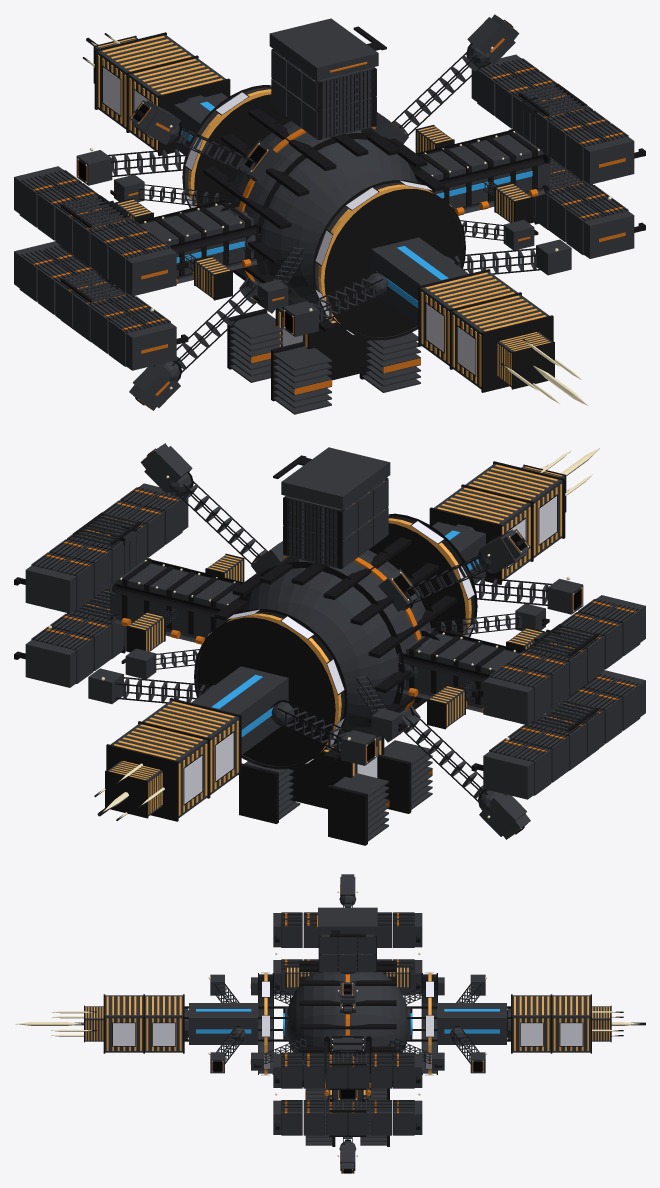
The model's file is trivar_hub.obj.
3 views of the same model, one above another, from view 1: azimuth 30°, elevation 25°; view 2: azimuth 150°, elevation 25°; view 3: azimuth 270°, elevation 25° (orthographic). The views are drawn at different scales.
Visible parts, largest first — view 1: hull, hull2, window, accent, ad, cyan, light, dark; view 2: hull, hull2, window, ad, accent, light, cyan, dark; view 3: hull, hull2, window, ad, light, accent, cyan, dark.
Part boxes in pixels (x1,y1,x2,y2): hull: (14, 14, 634, 414); hull2: (21, 19, 645, 405); window: (98, 36, 550, 386); accent: (33, 22, 625, 408); ad: (103, 67, 475, 375); cyan: (176, 101, 532, 308); light: (37, 16, 611, 409); dark: (78, 17, 503, 407); hull: (25, 443, 645, 841); hull2: (14, 448, 638, 845); window: (109, 464, 562, 815); ad: (184, 496, 556, 803); accent: (45, 451, 635, 837); light: (48, 444, 622, 838); cyan: (211, 530, 479, 737); dark: (156, 446, 581, 835); hull: (85, 874, 610, 1173); hull2: (75, 900, 645, 1172); window: (85, 967, 609, 1098); ad: (113, 972, 582, 1075); light: (16, 891, 639, 1173); accent: (211, 884, 483, 1172); cyan: (196, 1009, 499, 1034); dark: (213, 984, 482, 1172).
Bounding box in the file's own units: 75.48 × 50.4 × 127.
